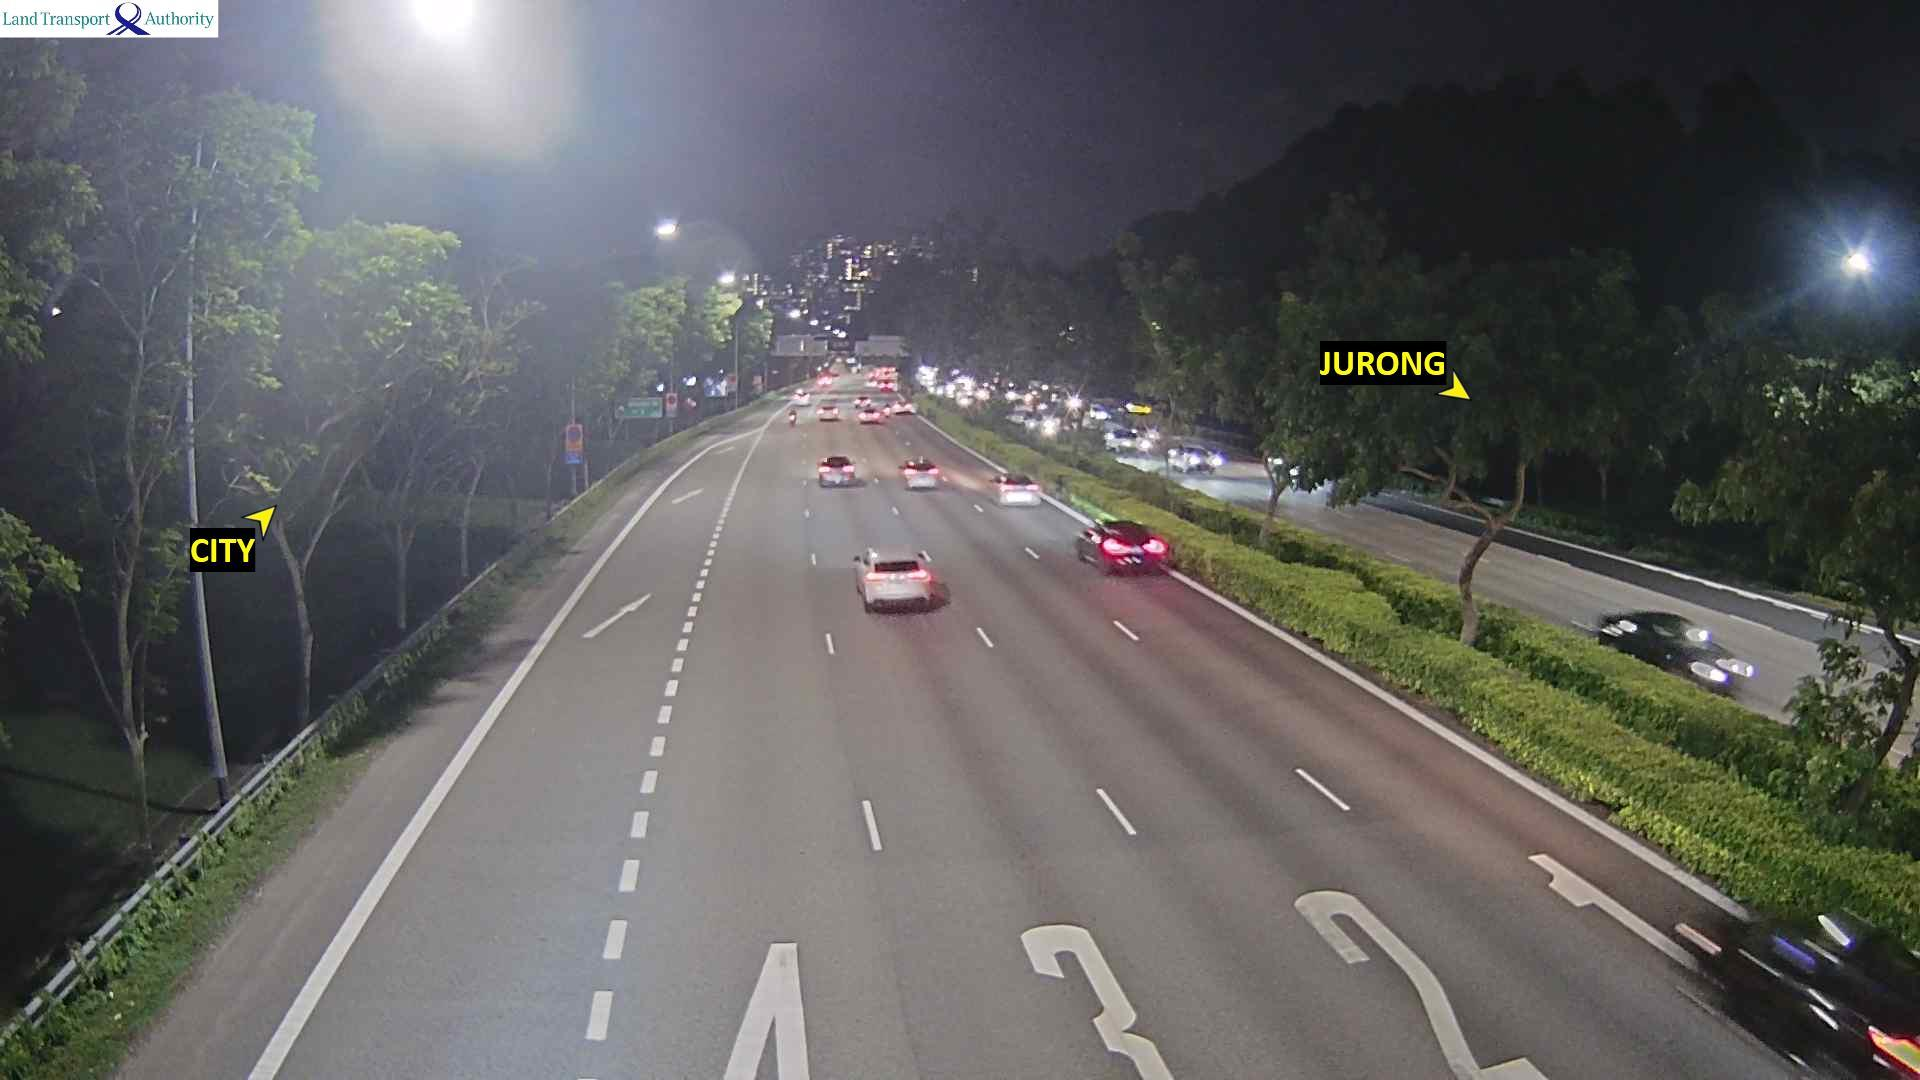incoming: (1679, 628, 1756, 692), (1182, 447, 1224, 475), (1114, 434, 1151, 459)
